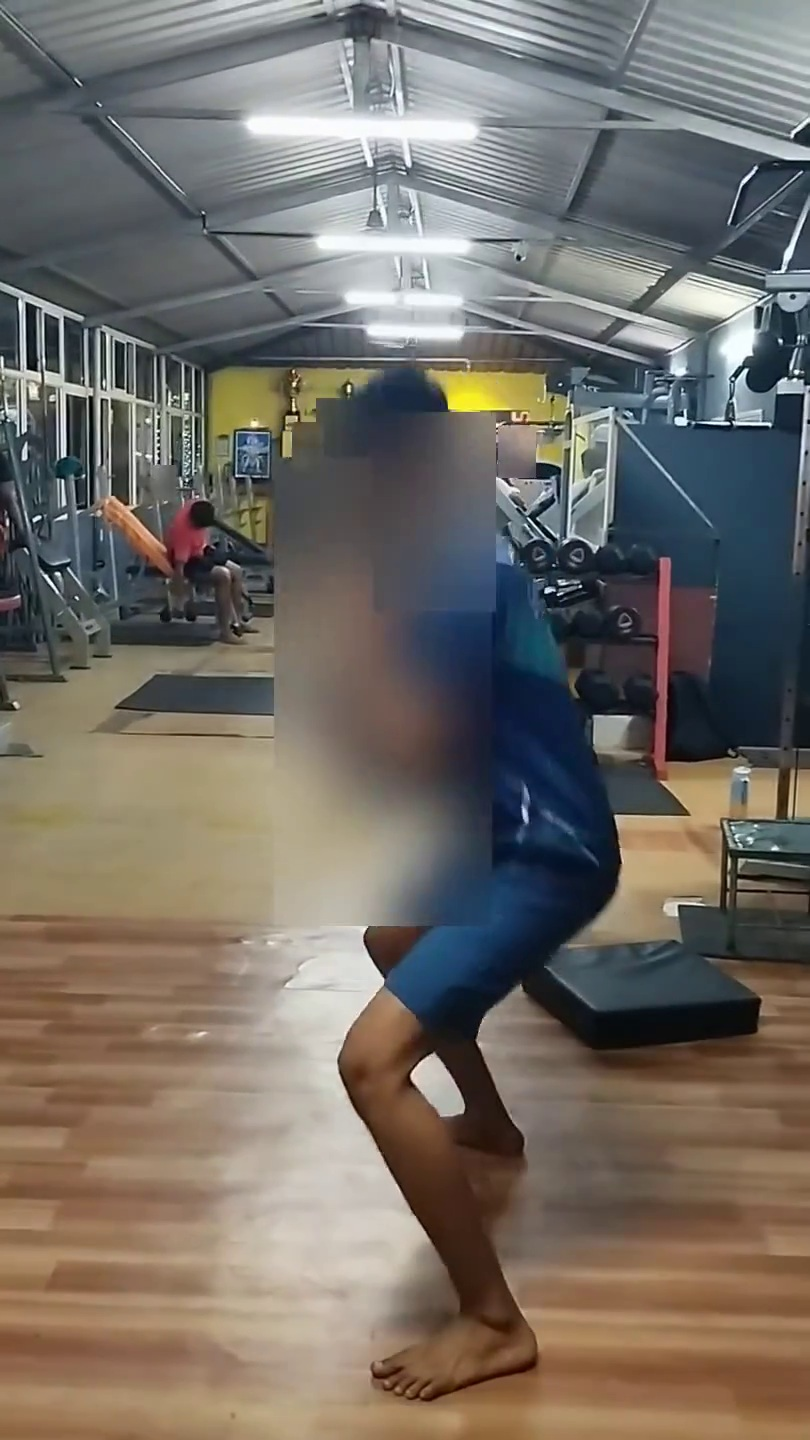squat_correct: (292, 535, 594, 1440)
